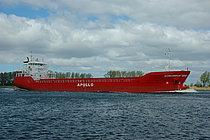Ship: (10, 47, 199, 98)
